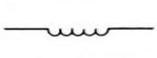inductor: (40, 21, 121, 42)
